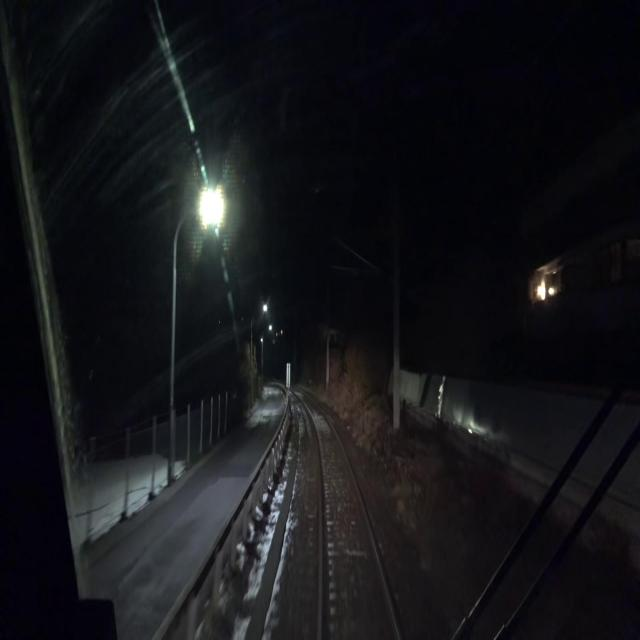rail-track: (300, 394, 396, 639)
